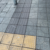others: (1, 27, 35, 49)
